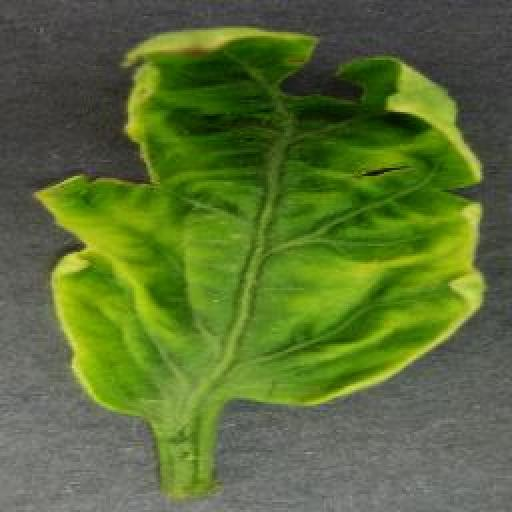disease_tomato: (35, 25, 484, 423)
